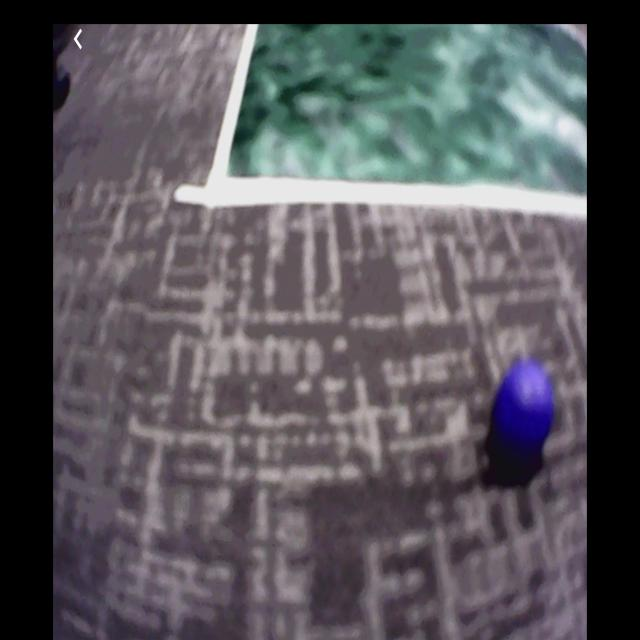ball: (496, 358, 554, 454)
